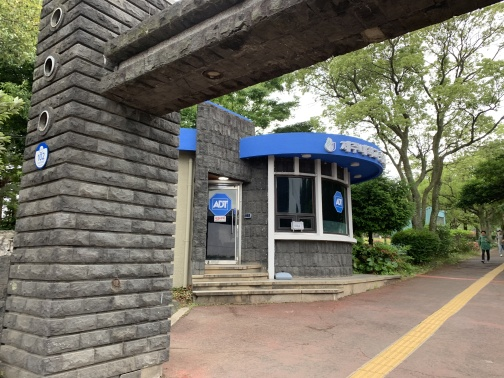Security Office: (180, 112, 396, 310)
